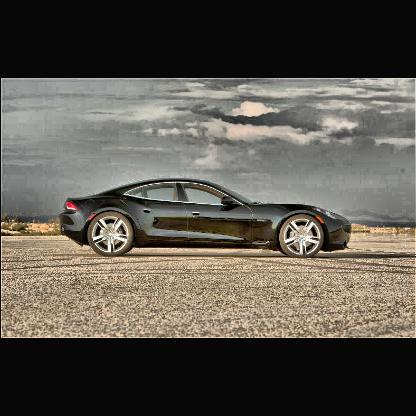Fisker Karma Sedan 2012: (60, 178, 352, 258)
